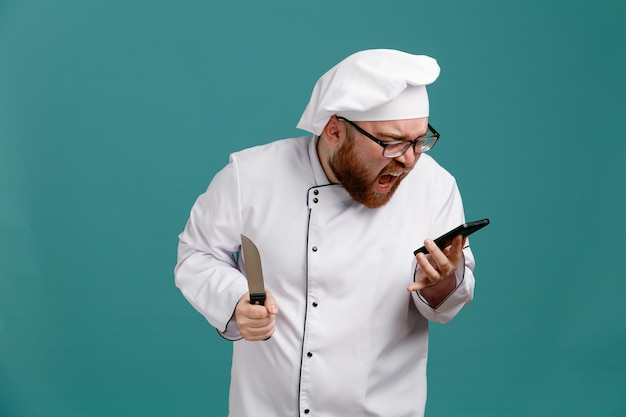knife: (238, 235, 269, 307)
